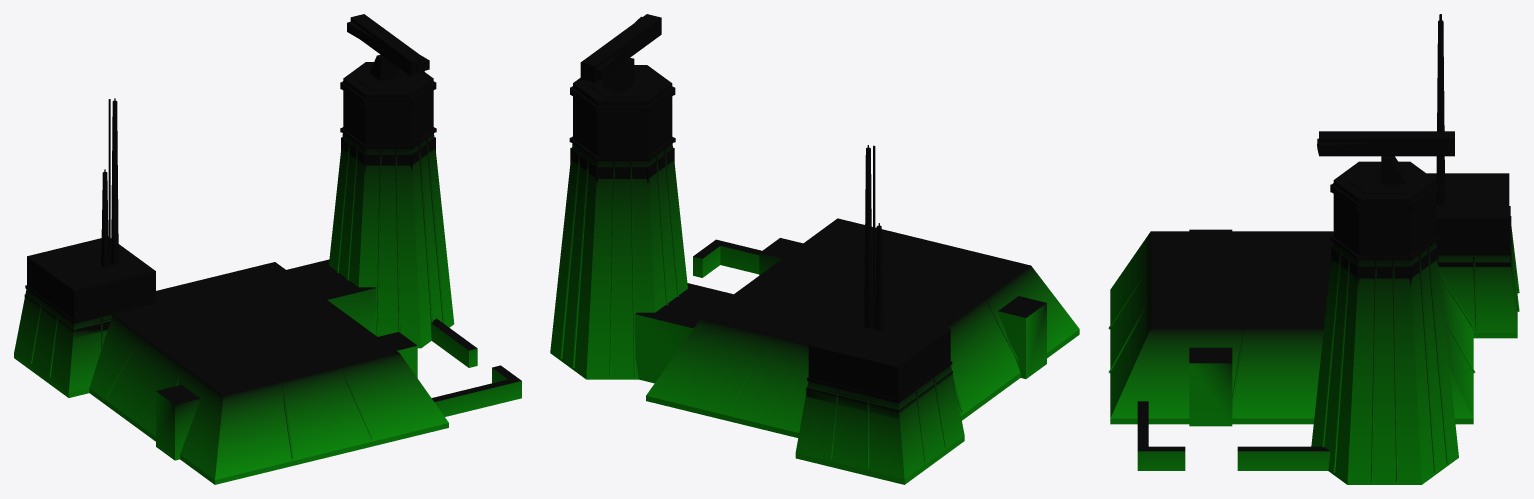
The model's file is bturretcontrol.glb.
The picture shows the model from 3 angles, left to right: view 1: azimuth 30°, elevation 25°; view 2: azimuth 150°, elevation 25°; view 3: azimuth 270°, elevation 25°; orthographic projection. The views are drawn at different scales.
Parts seen in each view (by area): view 1: lod0_bturretcontrol; view 2: lod0_bturretcontrol; view 3: lod0_bturretcontrol.
Boxes of the visible parts, box(x1,y1,x2,y2) form: lod0_bturretcontrol: box(14, 14, 521, 484); lod0_bturretcontrol: box(550, 14, 1079, 484); lod0_bturretcontrol: box(1108, 14, 1519, 484).
Bounding box in the file's own units: 25.41 × 18.84 × 21.75.
